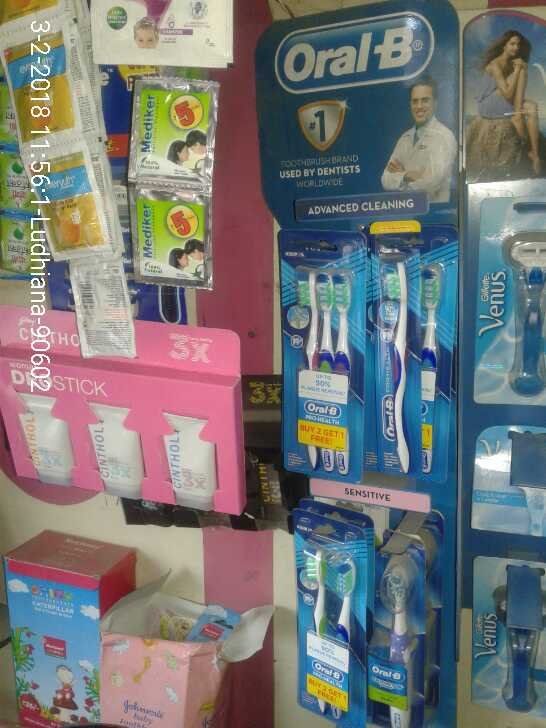beauty: (469, 222, 546, 402), (462, 553, 546, 711)
pharmacy: (281, 260, 356, 477), (377, 254, 446, 478), (296, 545, 361, 723), (375, 555, 423, 728)
